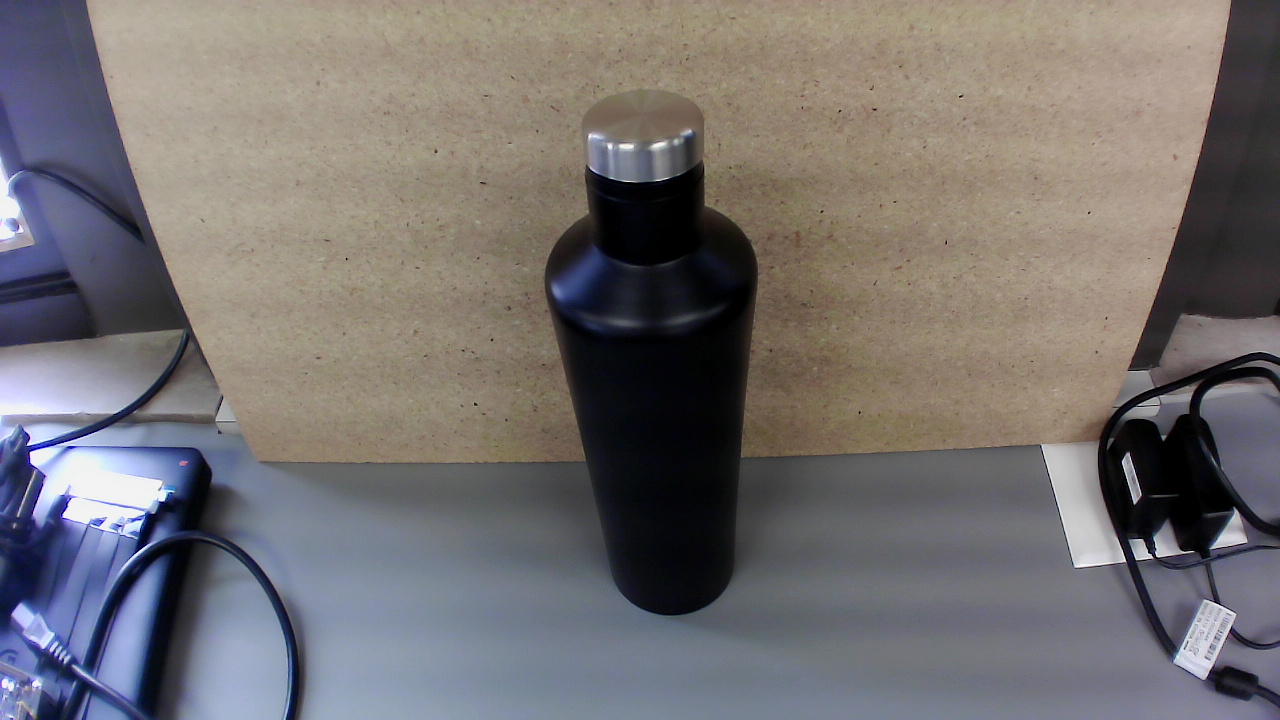neobottle: (541, 81, 762, 618)
